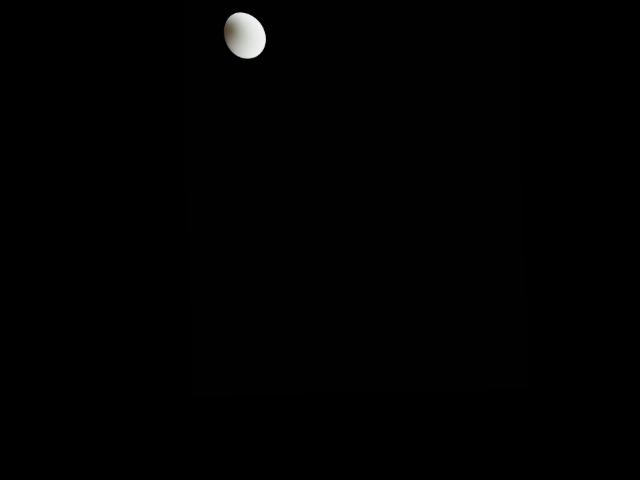egg: (223, 11, 266, 58)
